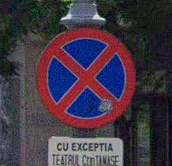oprirea_interzisa: (38, 28, 136, 129)
